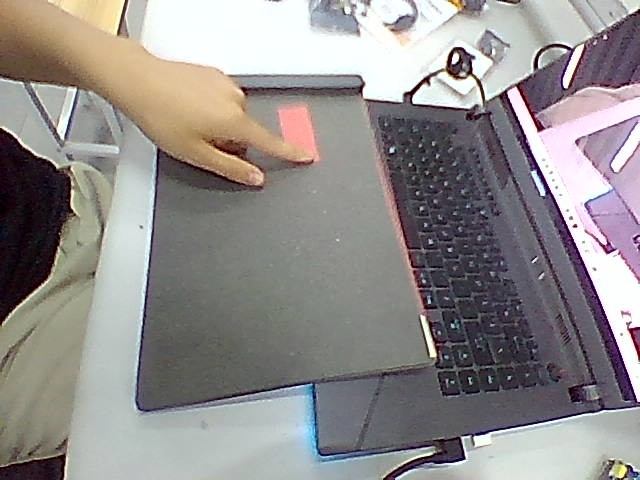card: (278, 104, 316, 159)
